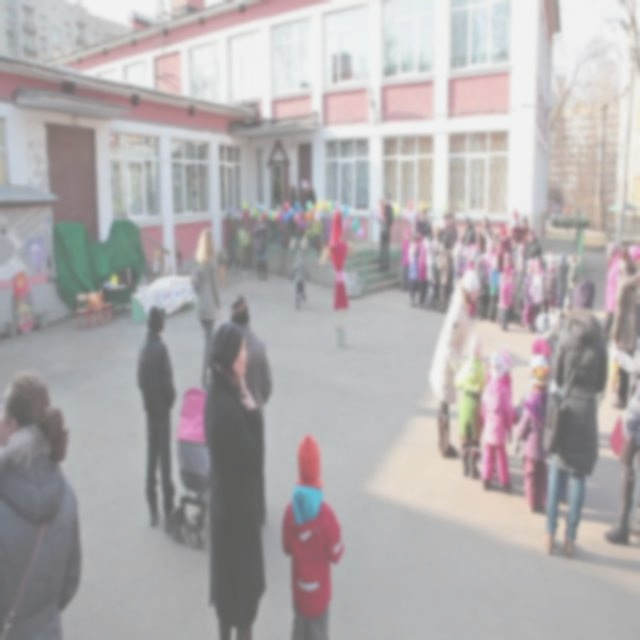pessoa: (0, 370, 84, 639), (201, 321, 267, 638), (539, 277, 608, 559), (280, 431, 344, 638), (134, 304, 179, 534), (428, 265, 480, 460), (229, 293, 272, 528), (600, 333, 640, 550), (188, 226, 224, 392), (514, 364, 553, 514), (608, 244, 640, 411), (513, 353, 551, 483), (480, 350, 514, 494), (453, 331, 486, 478), (514, 334, 552, 422), (602, 241, 622, 351), (9, 266, 34, 342), (485, 342, 513, 402), (462, 242, 483, 320), (376, 192, 394, 272), (482, 234, 497, 322), (530, 253, 546, 335), (289, 249, 310, 311), (434, 242, 452, 314), (442, 210, 458, 290), (252, 210, 269, 282), (427, 224, 444, 296), (531, 310, 558, 354), (543, 248, 560, 316), (494, 269, 512, 331), (501, 252, 516, 326), (555, 250, 570, 320), (441, 238, 456, 308), (514, 255, 528, 328), (522, 258, 536, 330), (407, 229, 419, 308), (486, 255, 500, 322), (423, 240, 436, 310), (422, 232, 434, 306), (496, 226, 514, 274), (452, 240, 468, 290), (400, 228, 412, 293), (509, 208, 522, 267), (508, 232, 520, 294), (524, 226, 542, 266), (302, 178, 318, 218), (412, 208, 424, 260), (460, 213, 478, 247), (478, 214, 493, 254), (568, 252, 582, 294), (419, 208, 435, 242), (516, 216, 530, 246), (514, 242, 526, 274), (377, 193, 388, 226), (492, 222, 503, 254), (561, 201, 572, 219), (288, 182, 294, 206), (441, 210, 448, 230), (622, 246, 630, 262), (438, 228, 445, 243), (422, 232, 428, 240)
